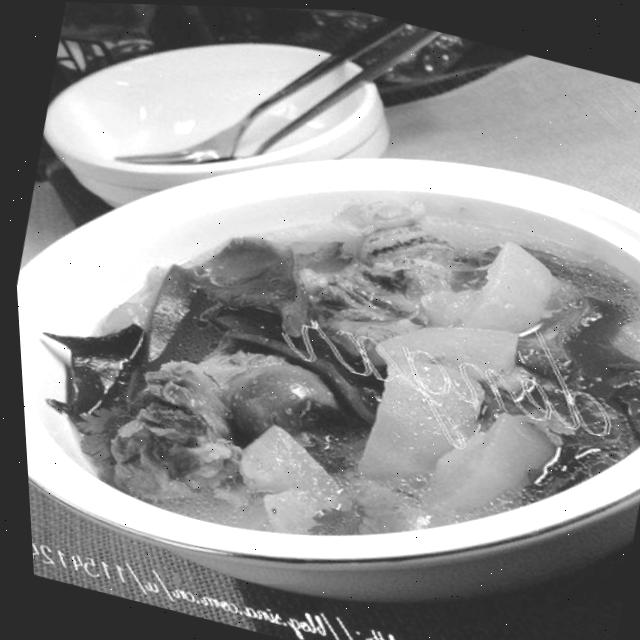汤锅炖物: (0, 2, 640, 640)
